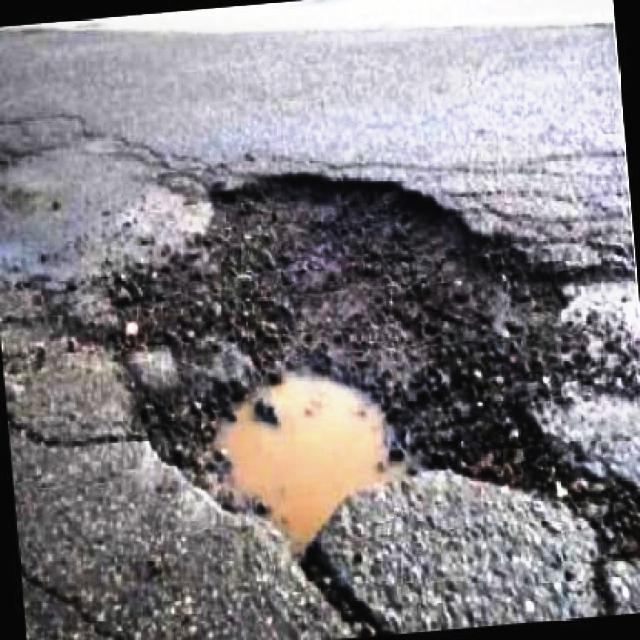pothole: (87, 163, 640, 603)
